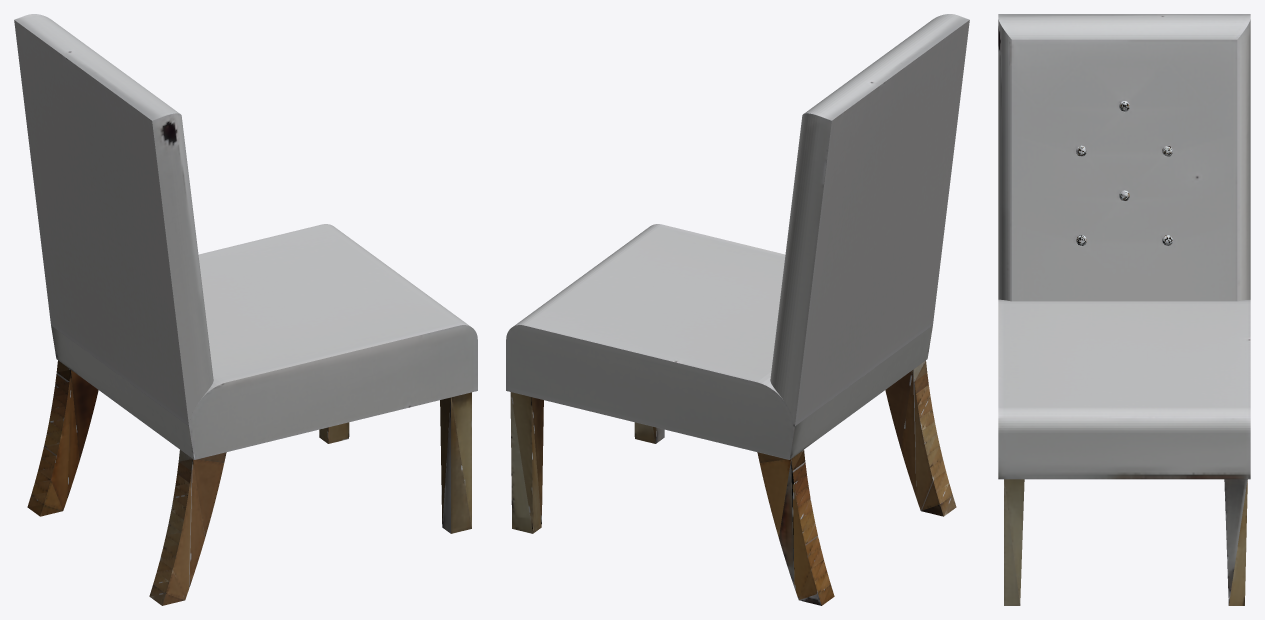
The picture shows the model from 3 angles, left to right: view 1: azimuth 30°, elevation 25°; view 2: azimuth 150°, elevation 25°; view 3: azimuth 270°, elevation 25°; orthographic projection. The views are drawn at different scales.
Visible parts, largest first — view 1: Node; view 2: Node; view 3: Node.
Boxes of the visible parts, x1=… form: Node: x1=14, y1=14, x2=477, y2=605; Node: x1=506, y1=14, x2=969, y2=605; Node: x1=998, y1=14, x2=1250, y2=605.
Bounding box in the file's own units: 0.4861 × 0.7 × 0.3567.
Materials: 1 (1 with a texture image).
